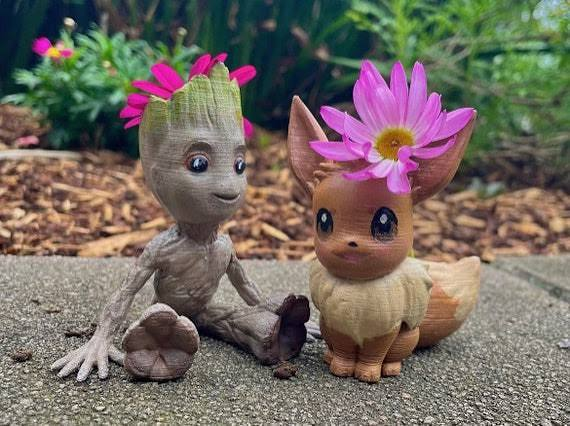3d print: (52, 55, 308, 380), (288, 61, 479, 381)
